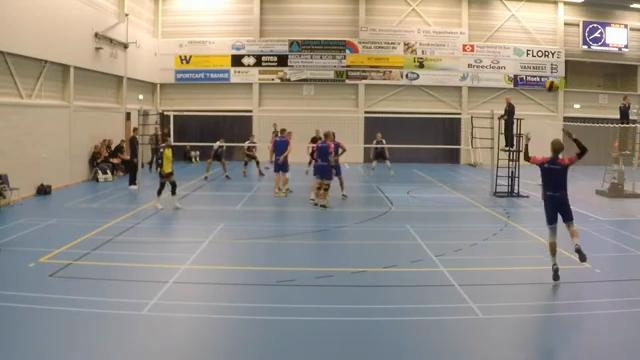Player: (154, 139, 181, 208), (314, 131, 333, 208), (270, 128, 290, 196), (204, 138, 230, 180), (331, 132, 346, 198), (370, 133, 393, 176), (243, 135, 263, 176), (305, 129, 321, 174), (286, 131, 291, 143)
Serve: (518, 123, 602, 292)
ball: (544, 78, 559, 92)
